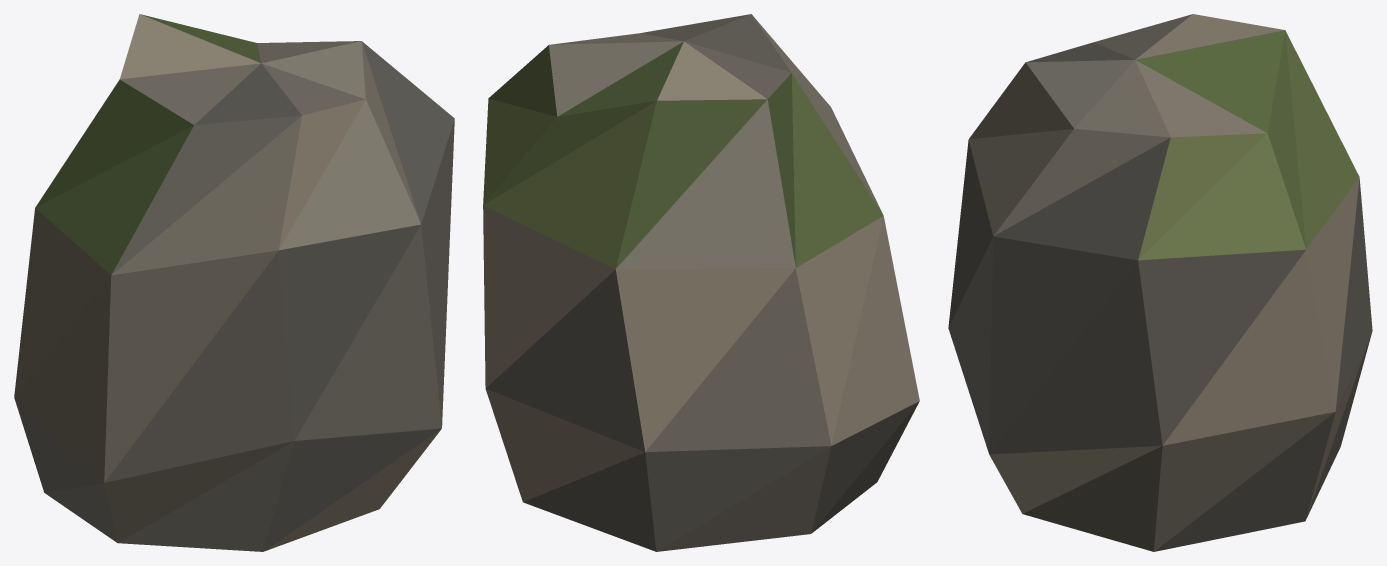
Rendered from stone_B.glb.
3 views of the same model, side by side, from view 1: azimuth 30°, elevation 25°; view 2: azimuth 150°, elevation 25°; view 3: azimuth 270°, elevation 25° (orthographic).
Visible parts, largest first — view 1: stone_B; view 2: stone_B; view 3: stone_B.
Part boxes in pixels (x1,y1,x2,y2): stone_B: [14, 14, 454, 551]; stone_B: [483, 14, 919, 551]; stone_B: [948, 14, 1372, 551].
Size of the model in its own units: 0.2441 by 0.2534 by 0.2266.
